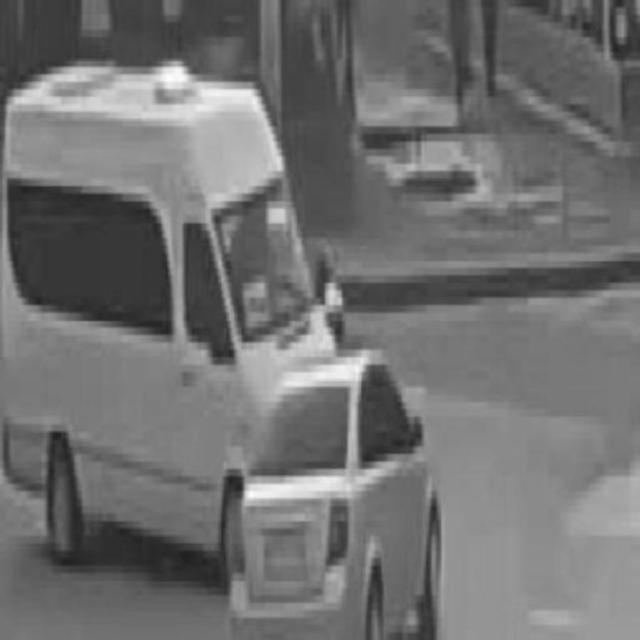accident: (7, 65, 484, 633)
